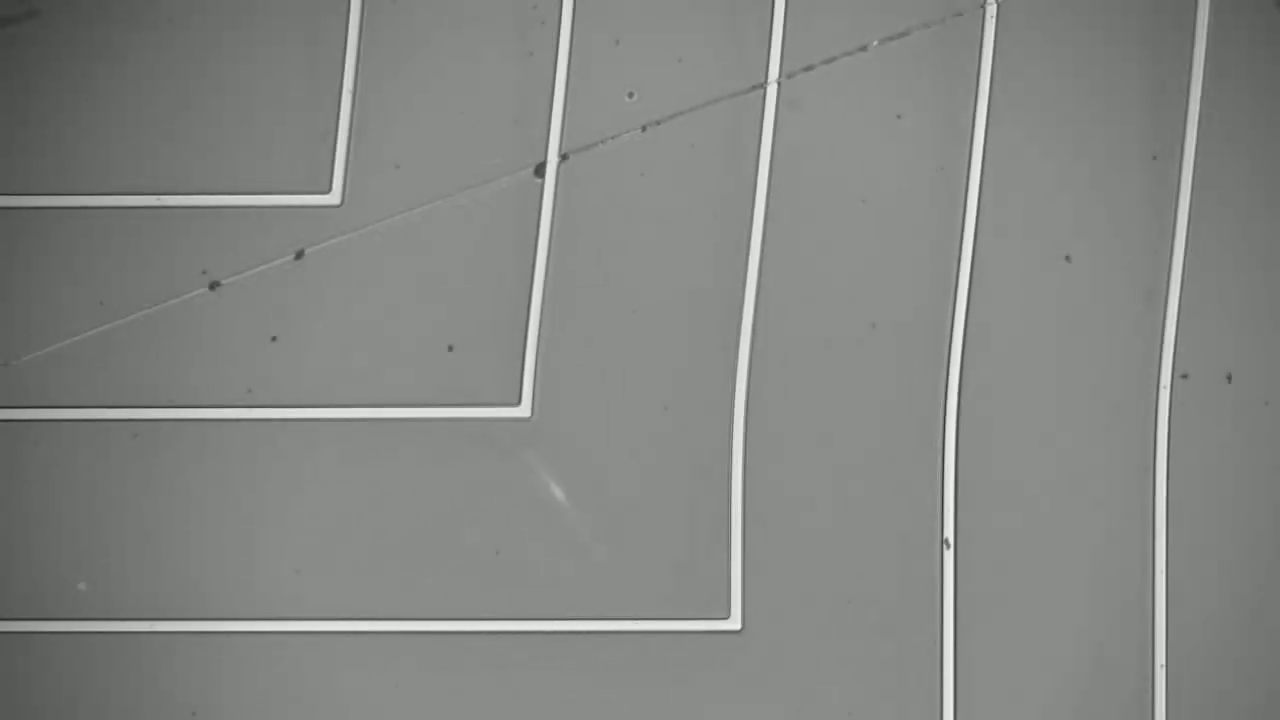scratch: (35, 6, 986, 352)
stains_enbedded: (931, 527, 962, 558)
